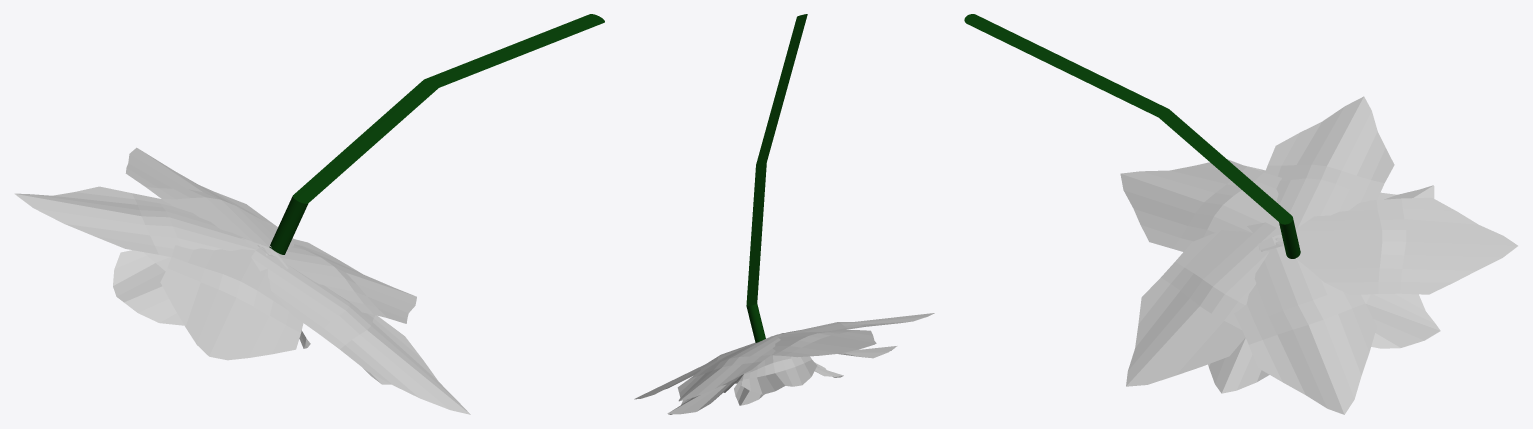
File: delphinium.obj
3 renders of one model, left to right at view 1: azimuth 30°, elevation 25°; view 2: azimuth 150°, elevation 25°; view 3: azimuth 270°, elevation 25°, orthographic. The views are drawn at different scales.
Parts seen in each view (by area): view 1: Plane.2382, Plane.2383, Plane.2381, Cylinder.065, Plane.2380, Plane.2384, Plane.2388; view 2: Cylinder.065, Plane.2380, Plane.2381, Plane.2387, Plane.2382, Plane.2385, Plane.2384, Plane.2389, Plane.2388; view 3: Plane.2380, Plane.2384, Plane.2383, Plane.2381, Plane.2382, Cylinder.065, Plane.2385, Plane.2386.
Part boxes in pixels (bbox=[...]): Plane.2382: bbox=[160, 238, 303, 360]; Plane.2383: bbox=[251, 246, 470, 414]; Plane.2381: bbox=[14, 186, 271, 257]; Cylinder.065: bbox=[269, 14, 604, 254]; Plane.2380: bbox=[125, 147, 293, 247]; Plane.2384: bbox=[257, 239, 416, 323]; Plane.2388: bbox=[113, 250, 184, 325]; Cylinder.065: bbox=[746, 14, 807, 342]; Plane.2380: bbox=[677, 336, 780, 401]; Plane.2381: bbox=[769, 330, 876, 357]; Plane.2387: bbox=[741, 355, 817, 394]; Plane.2382: bbox=[771, 313, 934, 336]; Plane.2385: bbox=[667, 375, 740, 414]; Plane.2384: bbox=[634, 333, 783, 399]; Plane.2389: bbox=[734, 374, 764, 405]; Plane.2388: bbox=[838, 346, 896, 358]; Plane.2380: bbox=[1295, 197, 1517, 295]; Plane.2384: bbox=[1234, 234, 1376, 414]; Plane.2383: bbox=[1126, 222, 1281, 386]; Plane.2381: bbox=[1265, 96, 1394, 241]; Plane.2382: bbox=[1120, 159, 1296, 251]; Cylinder.065: bbox=[964, 14, 1300, 258]; Plane.2385: bbox=[1361, 293, 1440, 348]; Plane.2386: bbox=[1208, 338, 1269, 393].
Bounding box in the file's own units: 3.96 × 4.51 × 5.81.
